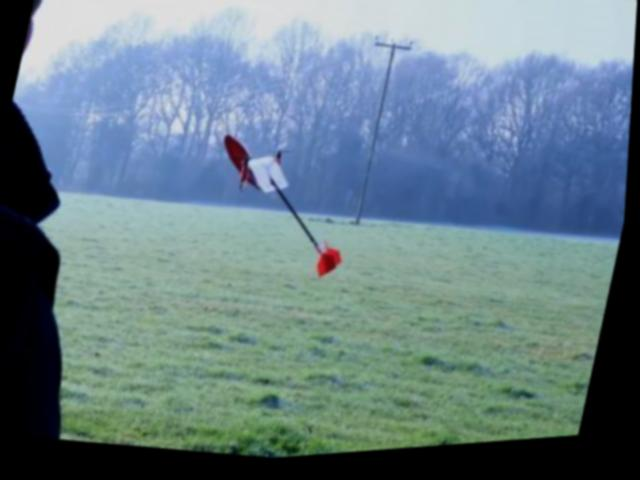uav: (197, 129, 366, 289)
